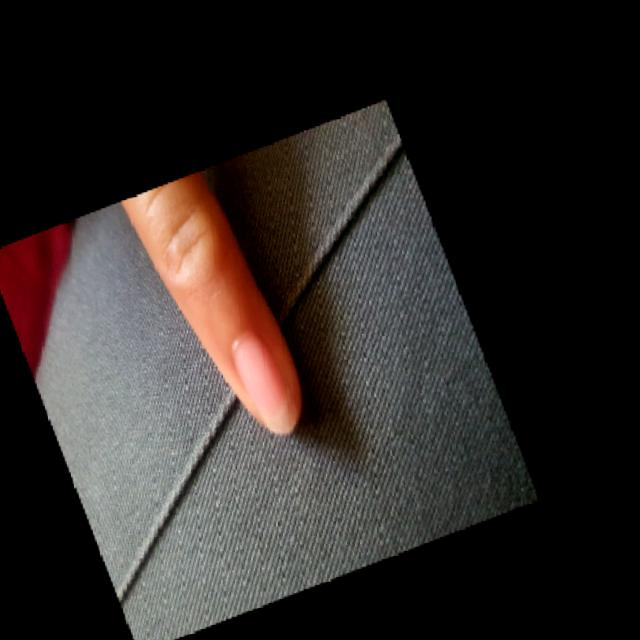Nail: (230, 331, 296, 433)
